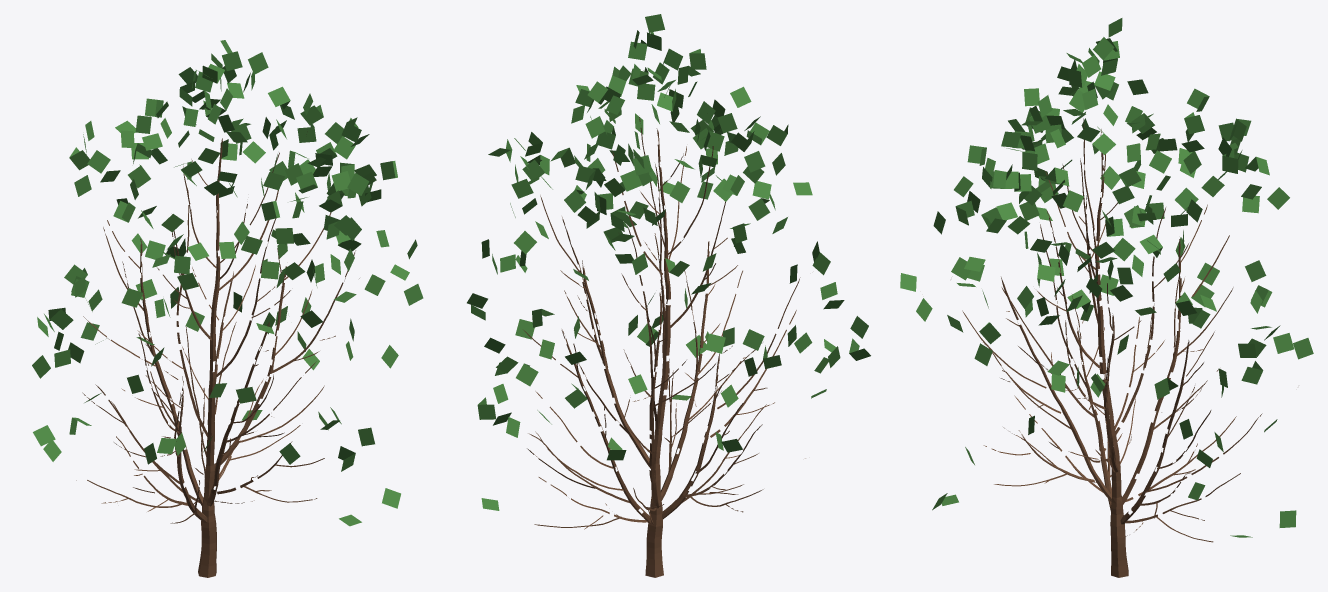
Rendered from red_maple_lod1.glb.
The picture shows the model from 3 angles, left to right: view 1: azimuth 30°, elevation 25°; view 2: azimuth 150°, elevation 25°; view 3: azimuth 270°, elevation 25°; orthographic projection.
Parts seen in each view (by area): view 1: foliage, trunk; view 2: foliage, trunk; view 3: foliage, trunk.
Part boxes in pixels (x1=…): foliage: x1=32, y1=40, x2=423, y2=526; trunk: x1=76, y1=131, x2=359, y2=577; foliage: x1=467, y1=14, x2=870, y2=510; trunk: x1=523, y1=70, x2=805, y2=577; foliage: x1=900, y1=18, x2=1313, y2=537; trunk: x1=962, y1=118, x2=1262, y2=577.
Size of the model in its own units: 4.31 by 6 by 4.01.
